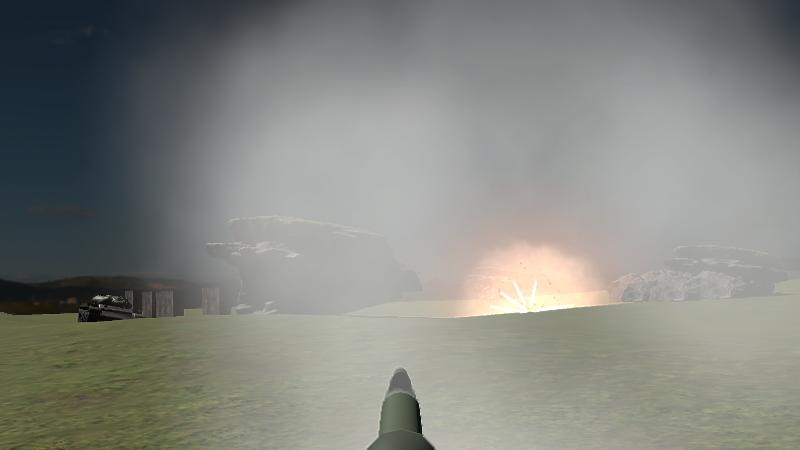Tank: (76, 292, 135, 324), (77, 292, 134, 324)
